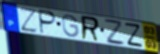G: (61, 14, 80, 39)
P: (39, 9, 58, 36)
R: (80, 15, 101, 43)
Z: (103, 17, 127, 47), (17, 6, 39, 34), (123, 22, 144, 48)
